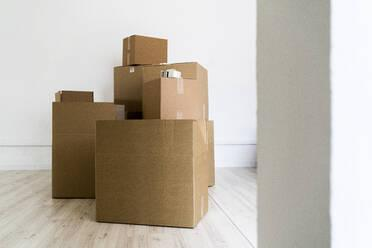Box: (96, 121, 208, 227), (52, 91, 125, 198), (114, 62, 208, 120), (144, 78, 207, 120), (123, 35, 167, 66), (55, 91, 94, 102)
